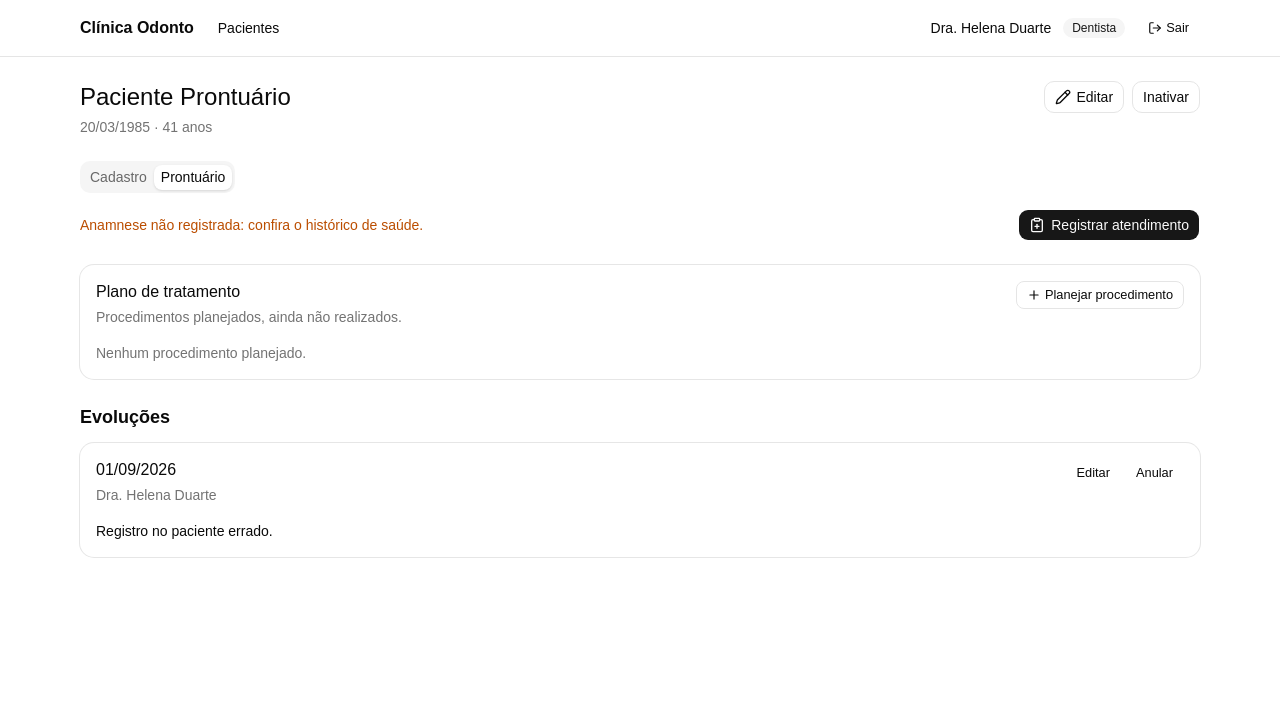
Test: evoluções › anular exige motivo e mantém a evolução visível, marcada como anulada
This screenshot has width=1280, height=720.
Step 1. Click the button "Anular" → (1154,473), box [1125,459,1184,487]
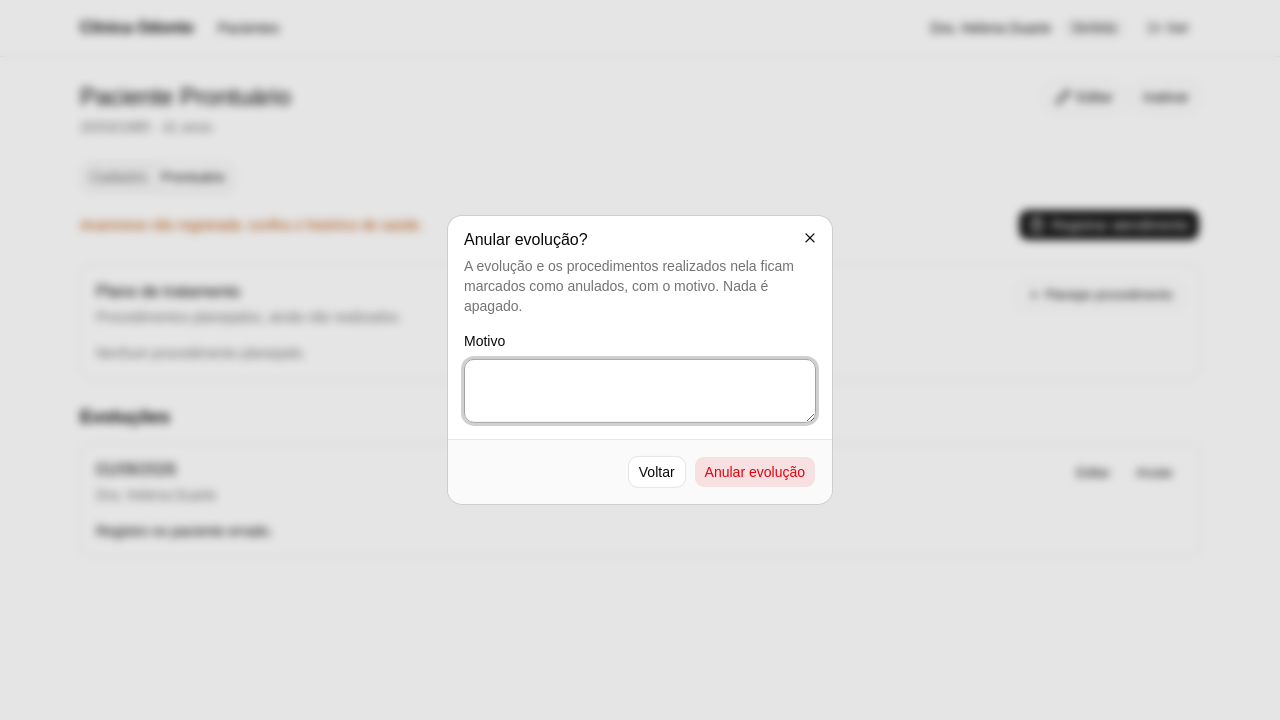
Step 2. Type "Registrado no paciente errado" into the text box labelled "Motivo" → (640,391), box [464,359,816,423]
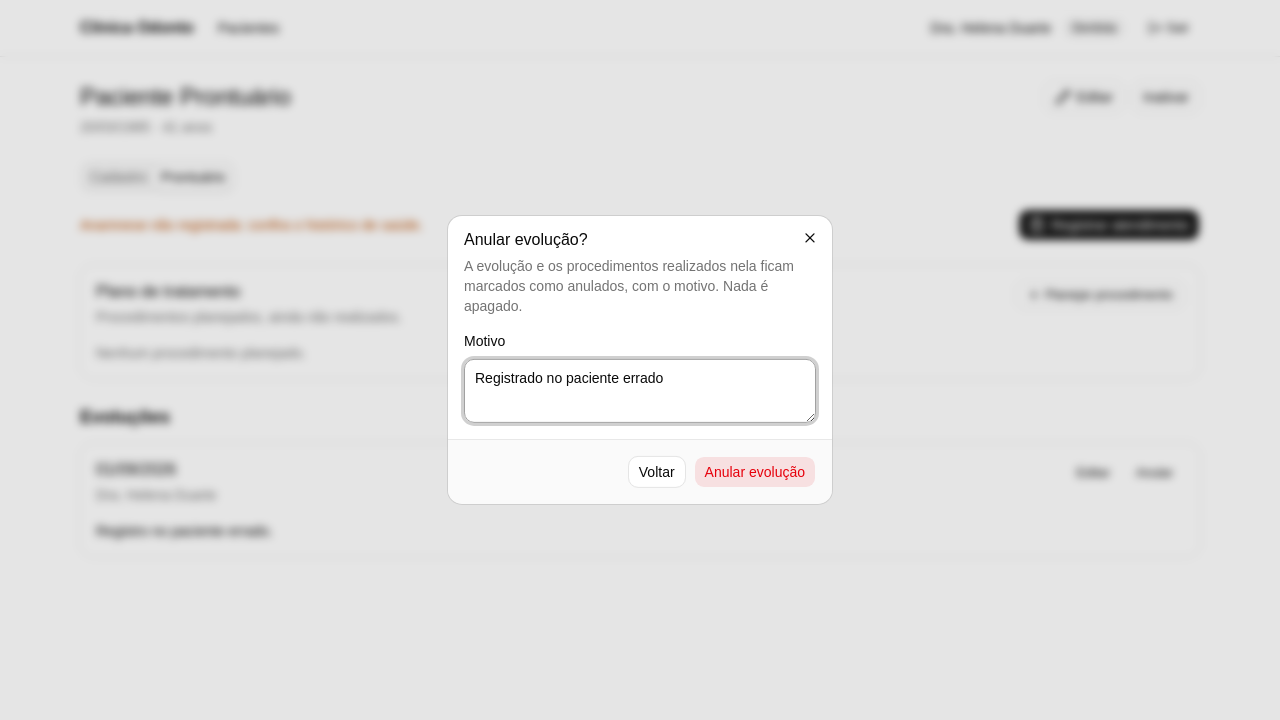
Step 3. Click the button "Anular evolução" → (755,472), box [694,456,816,488]
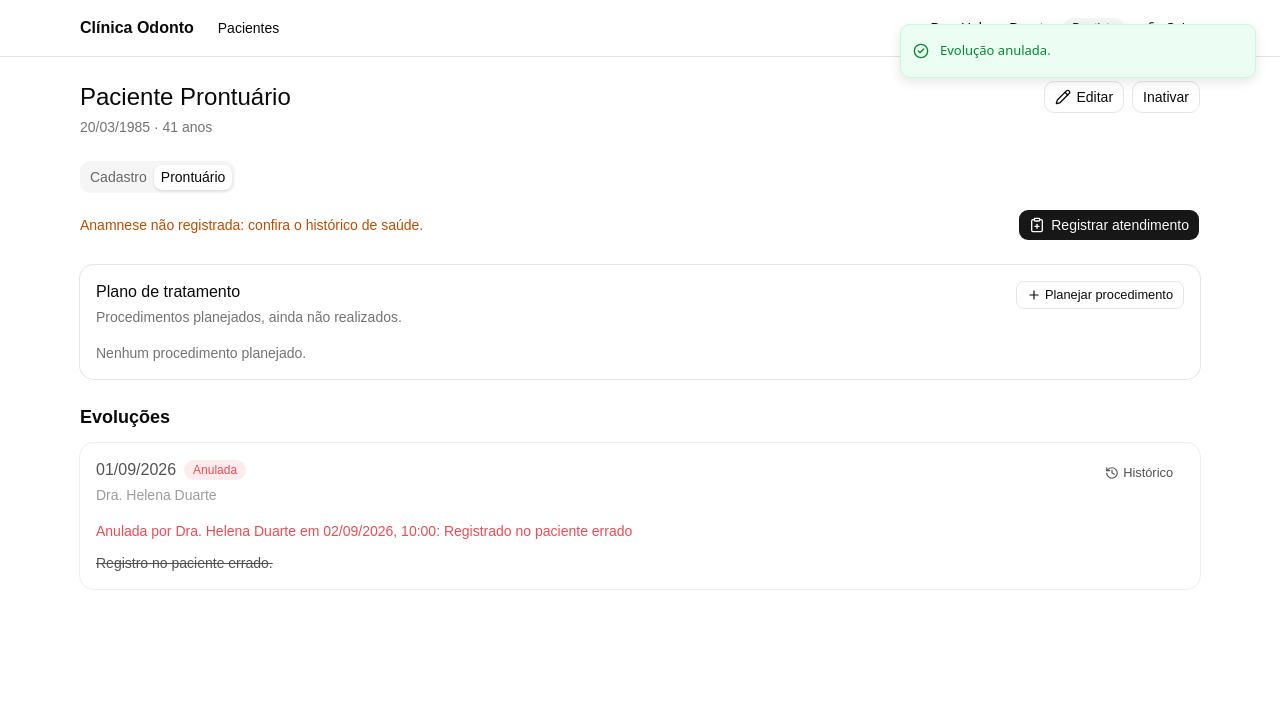
Expected: the text "Anulada" is shown, [184,460,246,480]
Expected: the text "Registrado no paciente errado" is shown, [444,523,632,539]
